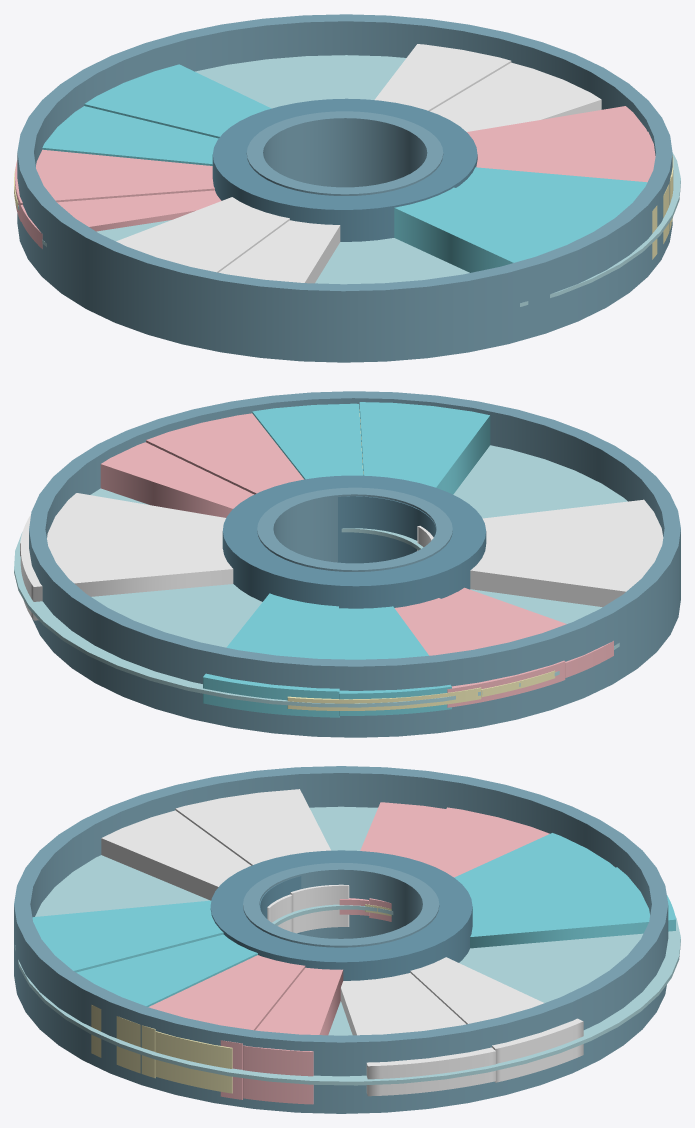
File: emoji_u1f4bf.glb
3 renders of one model, top to bottom at view 1: azimuth 30°, elevation 25°; view 2: azimuth 150°, elevation 25°; view 3: azimuth 270°, elevation 25°, orthographic.
Parts seen in each view (by area): view 1: emoji_u1f4bf; view 2: emoji_u1f4bf; view 3: emoji_u1f4bf.
Boxes of the visible parts, x1,y1,x2,y2 form: emoji_u1f4bf: (14, 14, 680, 362); emoji_u1f4bf: (14, 391, 680, 737); emoji_u1f4bf: (14, 766, 680, 1113).
Bounding box in the file's own units: 0.0322 × 0.0038 × 0.0322.
